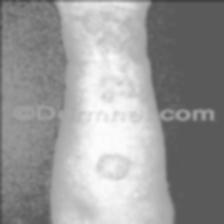Unclassified: (69, 7, 142, 106), (88, 136, 132, 188)
